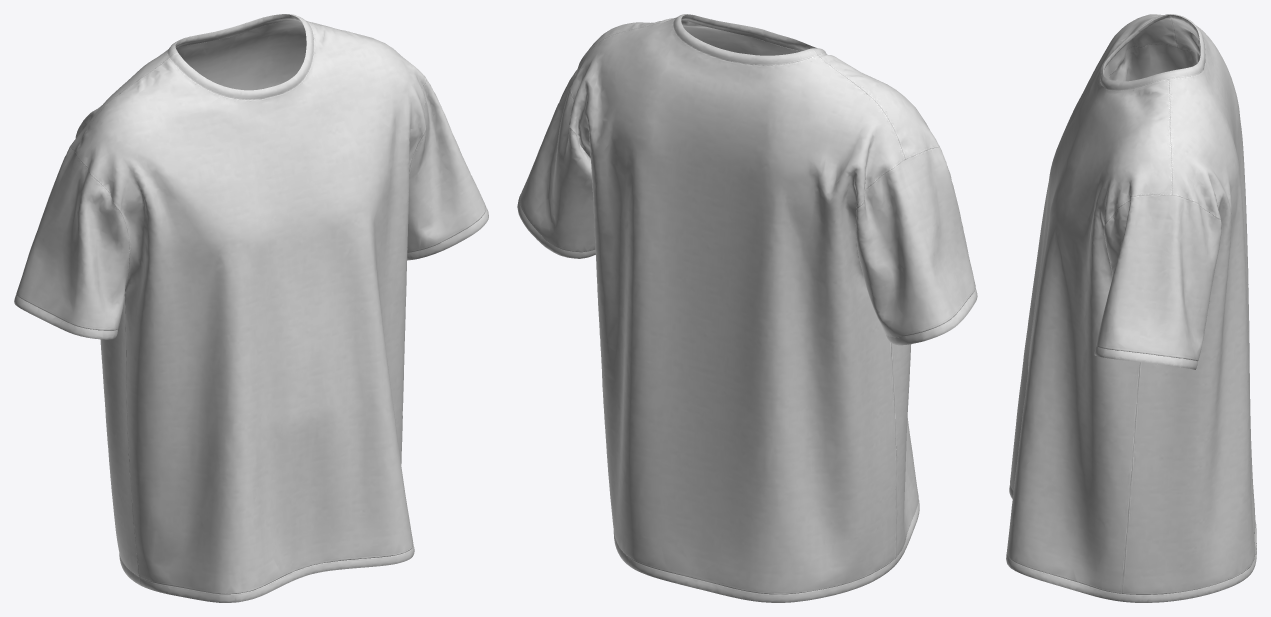
File: oversized_t-shirt_optimized.glb
The picture shows the model from 3 angles, left to right: view 1: azimuth 30°, elevation 25°; view 2: azimuth 150°, elevation 25°; view 3: azimuth 270°, elevation 25°; orthographic projection. The views are drawn at different scales.
Parts seen in each view (by area): view 1: Object_4, Object_3, Object_5, Object_2; view 2: Object_4, Object_5, Object_3, Object_2; view 3: Object_4, Object_3, Object_5, Object_2.
Boxes of the visible parts, bbox=[...] form: Object_4: bbox=[16, 20, 426, 594]; Object_3: bbox=[75, 14, 488, 577]; Object_5: bbox=[95, 20, 344, 558]; Object_2: bbox=[14, 207, 488, 602]; Object_4: bbox=[569, 18, 975, 594]; Object_5: bbox=[574, 28, 896, 583]; Object_3: bbox=[518, 14, 939, 594]; Object_2: bbox=[517, 193, 977, 602]; Object_4: bbox=[1007, 14, 1255, 594]; Object_3: bbox=[1010, 14, 1255, 594]; Object_5: bbox=[1122, 18, 1254, 593]; Object_2: bbox=[1006, 346, 1256, 602].
Size of the model in its own units: 0.637 by 0.7108 by 0.3212.
Materials: 1 (1 with a texture image).
